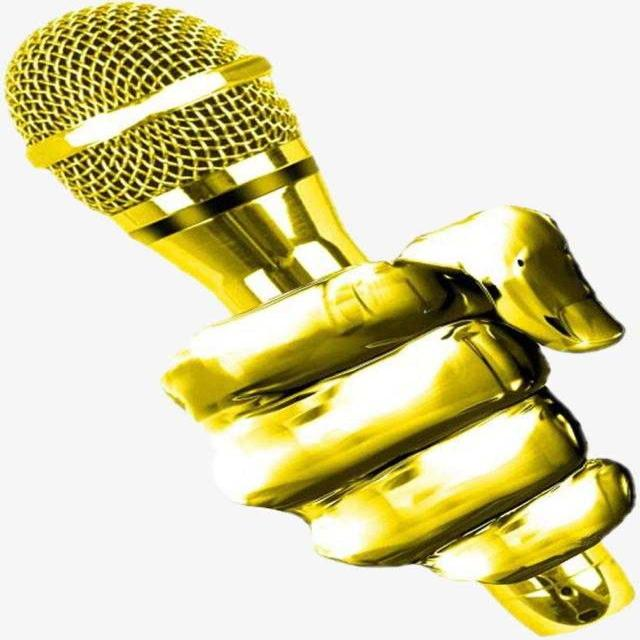microphone: (9, 1, 353, 308)
